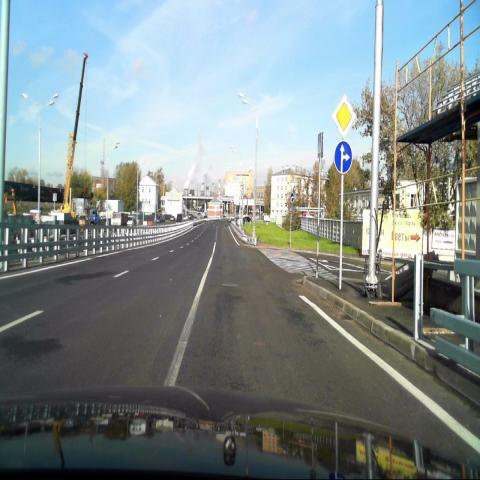4_1_4: (333, 139, 353, 177)
